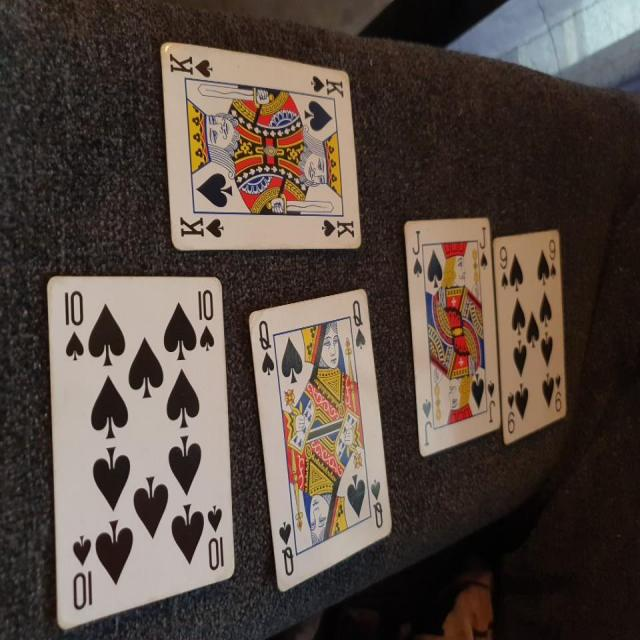10 Spades: (30, 261, 239, 632)
9 Spades: (494, 208, 570, 447)
J Spades: (399, 213, 504, 458)
K Spades: (150, 35, 375, 258)
Q Spades: (250, 288, 396, 601)
